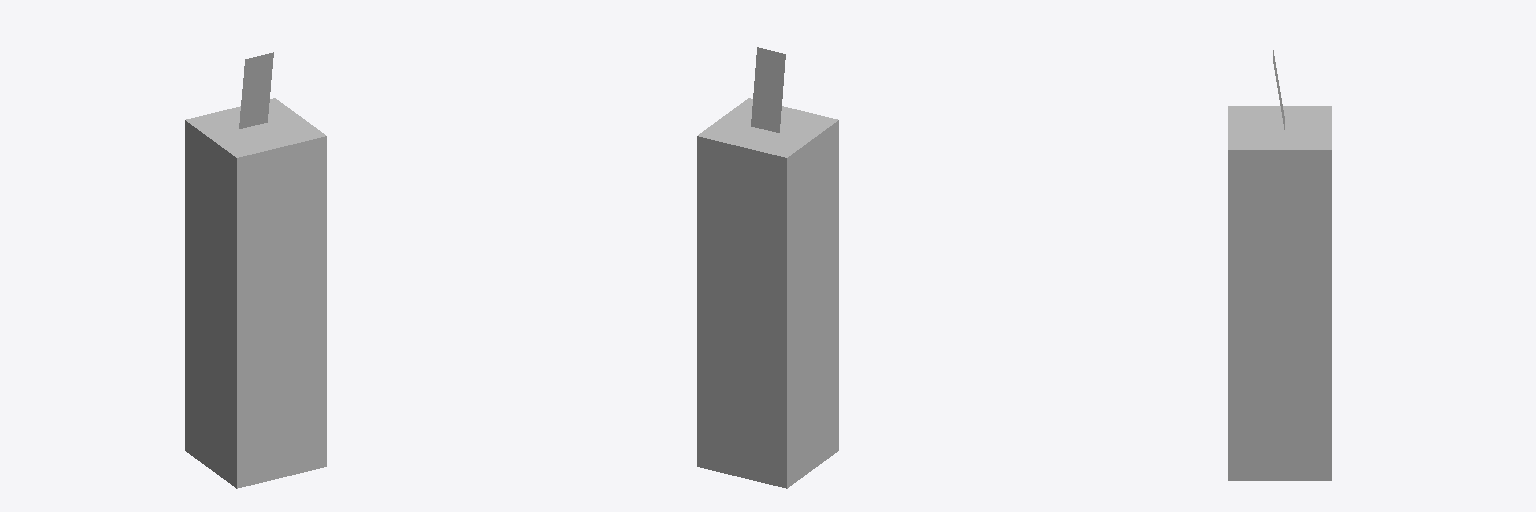
Rendered from svecha_1.obj.
The picture shows the model from 3 angles: view 1: azimuth 30°, elevation 25°; view 2: azimuth 150°, elevation 25°; view 3: azimuth 270°, elevation 25°; orthographic projection.
Visible parts, largest first — view 1: Свеча_1; view 2: Свеча_1; view 3: Свеча_1.
Part boxes in pixels (x1,y1,x2,y2): Свеча_1: (185, 52, 326, 488); Свеча_1: (697, 47, 838, 488); Свеча_1: (1228, 50, 1331, 480).
Size of the model in its own units: 0.0625 by 0.2682 by 0.0625.